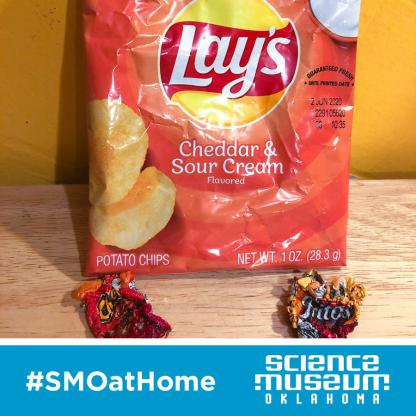potatochip: (57, 0, 364, 287)
